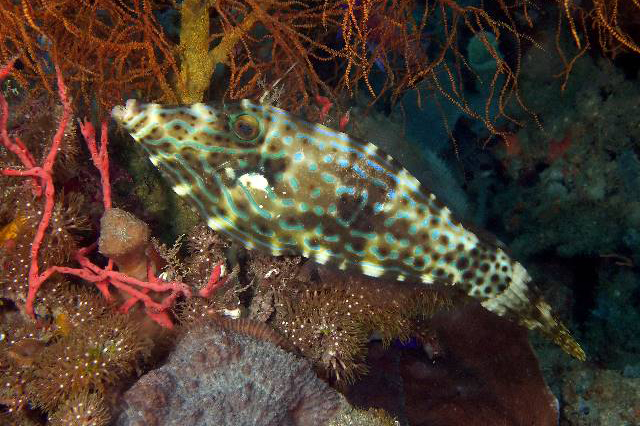Aluterus_scriptus: (108, 88, 588, 364)
